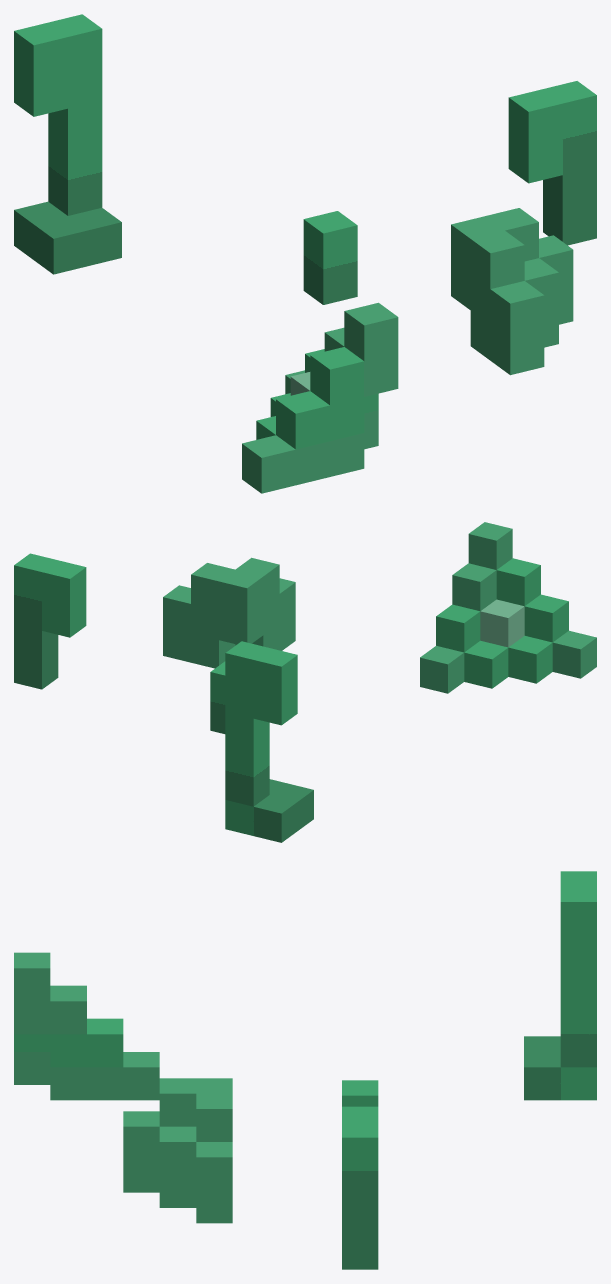
File: leaves_small.fbx
The picture shows the model from 3 angles, top to bottom: view 1: azimuth 30°, elevation 25°; view 2: azimuth 150°, elevation 25°; view 3: azimuth 270°, elevation 25°; orthographic projection. The views are drawn at different scales.
Parts seen in each view (by area): view 1: leaves_small; view 2: leaves_small; view 3: leaves_small.
Part boxes in pixels (x1=…): leaves_small: x1=14, y1=14, x2=596, y2=493; leaves_small: x1=14, y1=522, x2=596, y2=842; leaves_small: x1=14, y1=871, x2=596, y2=1269.
Size of the model in its own units: 15 by 6 by 16.
Materials: 1 (1 with a texture image).
